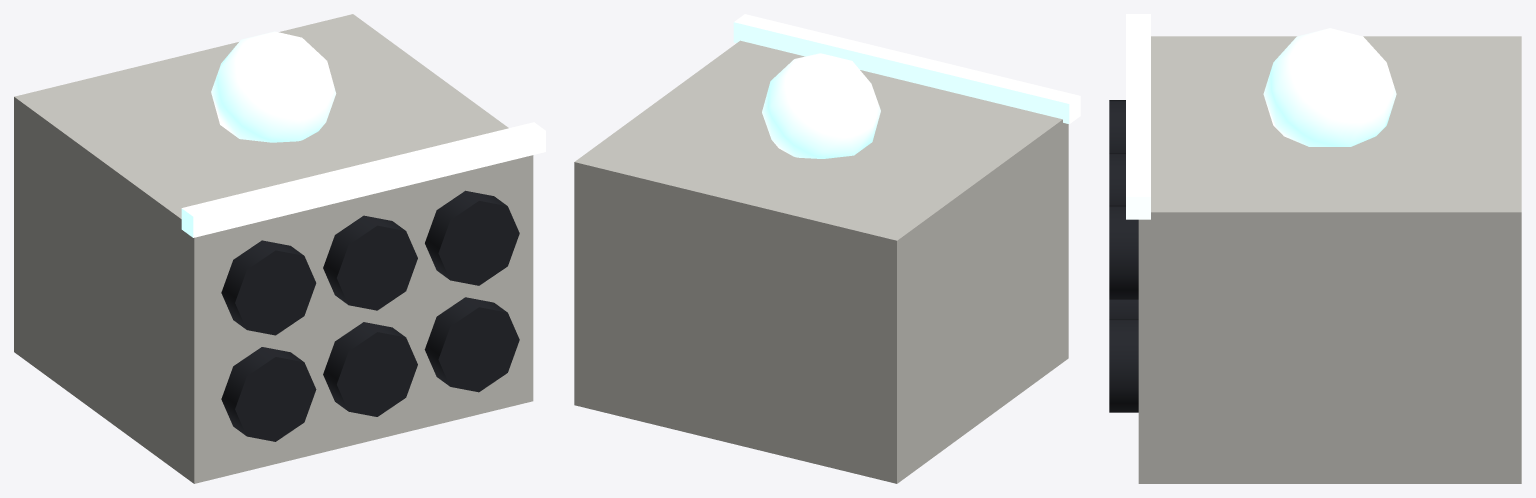
The model's file is wpn_omega_nova.glb.
3 renders of one model, left to right at view 1: azimuth 30°, elevation 25°; view 2: azimuth 150°, elevation 25°; view 3: azimuth 270°, elevation 25°, orthographic. The views are drawn at different scales.
Visible parts, largest first — view 1: weapon; view 2: weapon; view 3: weapon.
Boxes of the visible parts, left/top/right/bottom form: weapon: left=14, top=14, right=545, bottom=483; weapon: left=574, top=14, right=1080, bottom=483; weapon: left=1109, top=14, right=1521, bottom=483.
Size of the model in its own units: 0.52 by 0.48 by 0.495.
